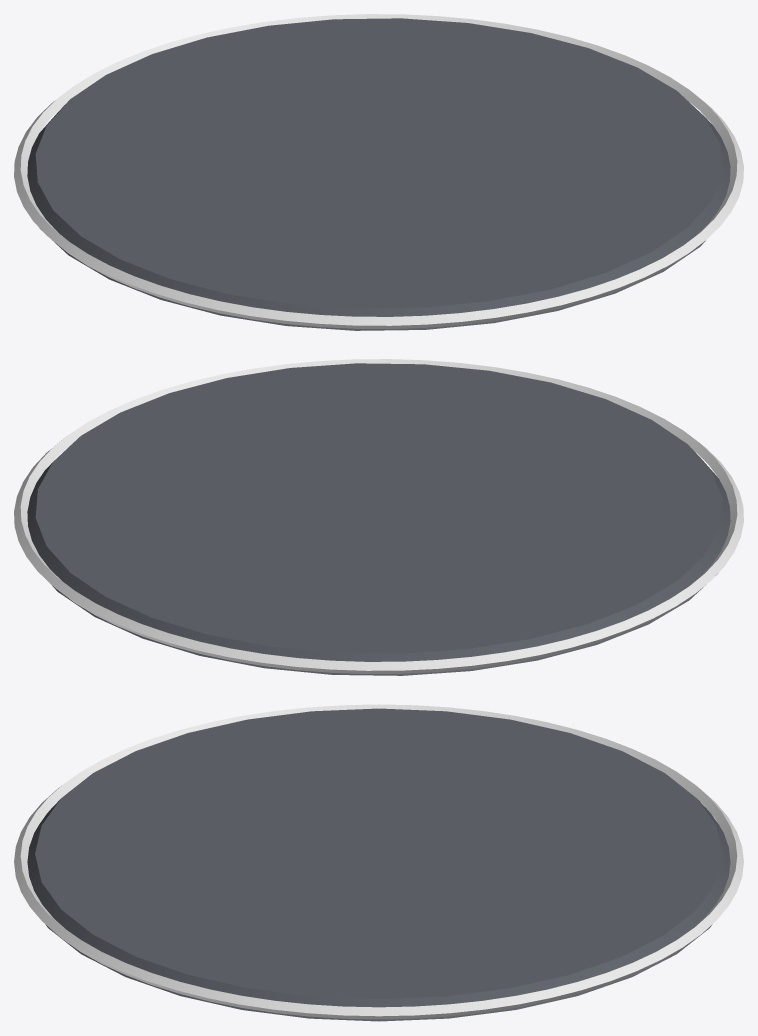
File: base_large_s1.fbx
3 views of the same model, one above another, from view 1: azimuth 30°, elevation 25°; view 2: azimuth 150°, elevation 25°; view 3: azimuth 270°, elevation 25° (orthographic).
Parts seen in each view (by area): view 1: base_large_s1; view 2: base_large_s1; view 3: base_large_s1.
Part boxes in pixels (<box>): base_large_s1: <box>14,14,743,330</box>; base_large_s1: <box>14,359,743,675</box>; base_large_s1: <box>14,704,743,1021</box>.
Size of the model in its own units: 3.26 by 0.08 by 3.26.
Materials: 2 (1 with a texture image).
